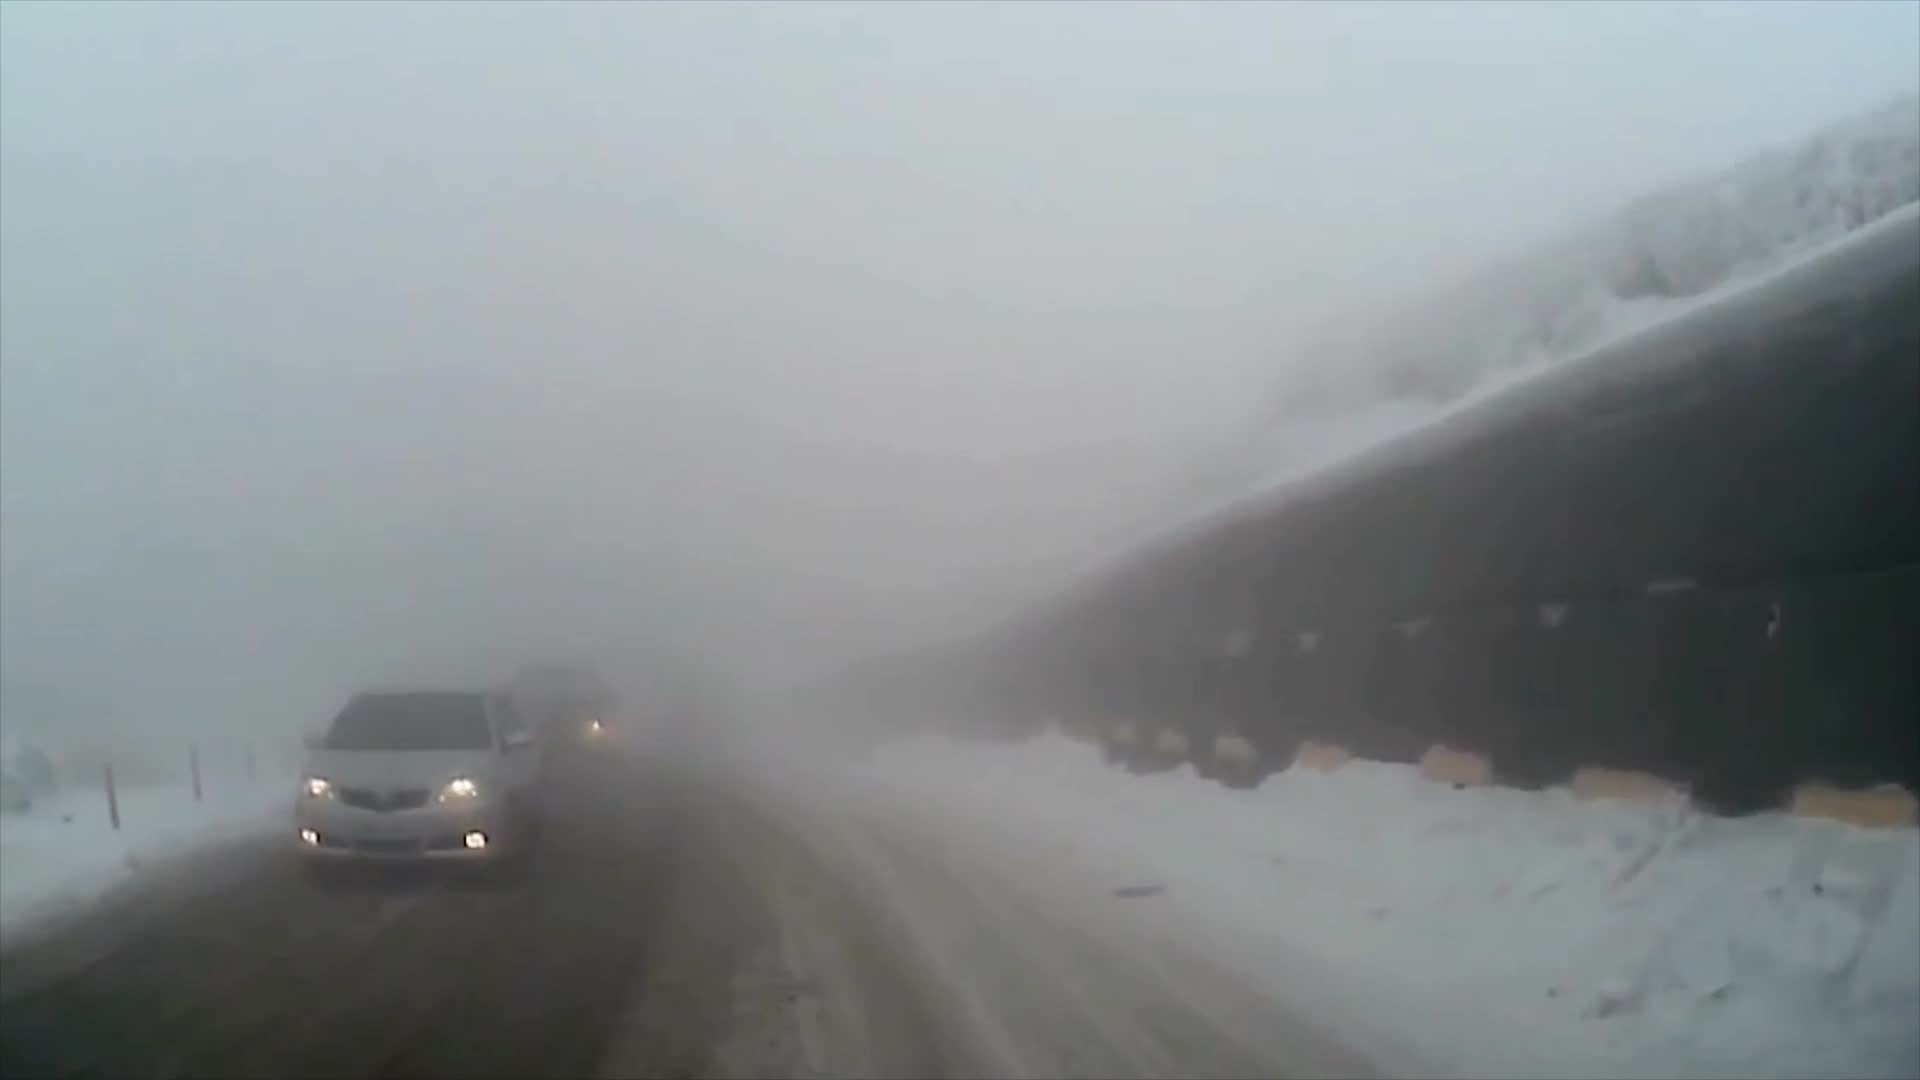vehicle: (287, 679, 546, 881)
